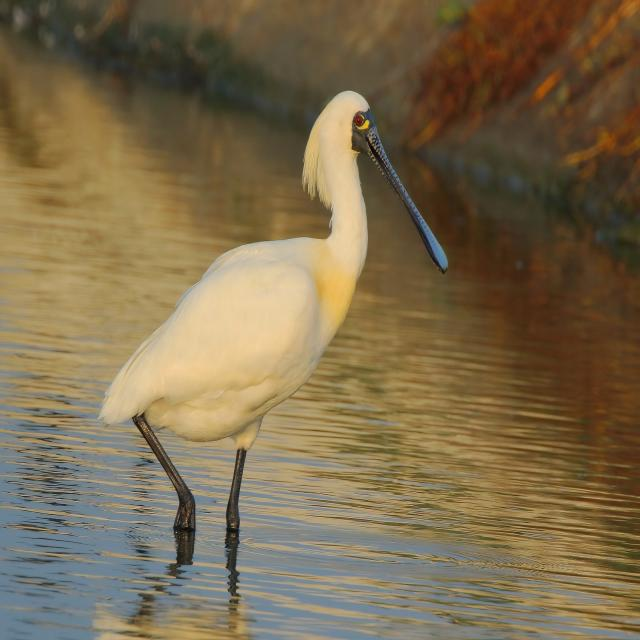Black-faced spoonbill: (100, 92, 447, 532)
